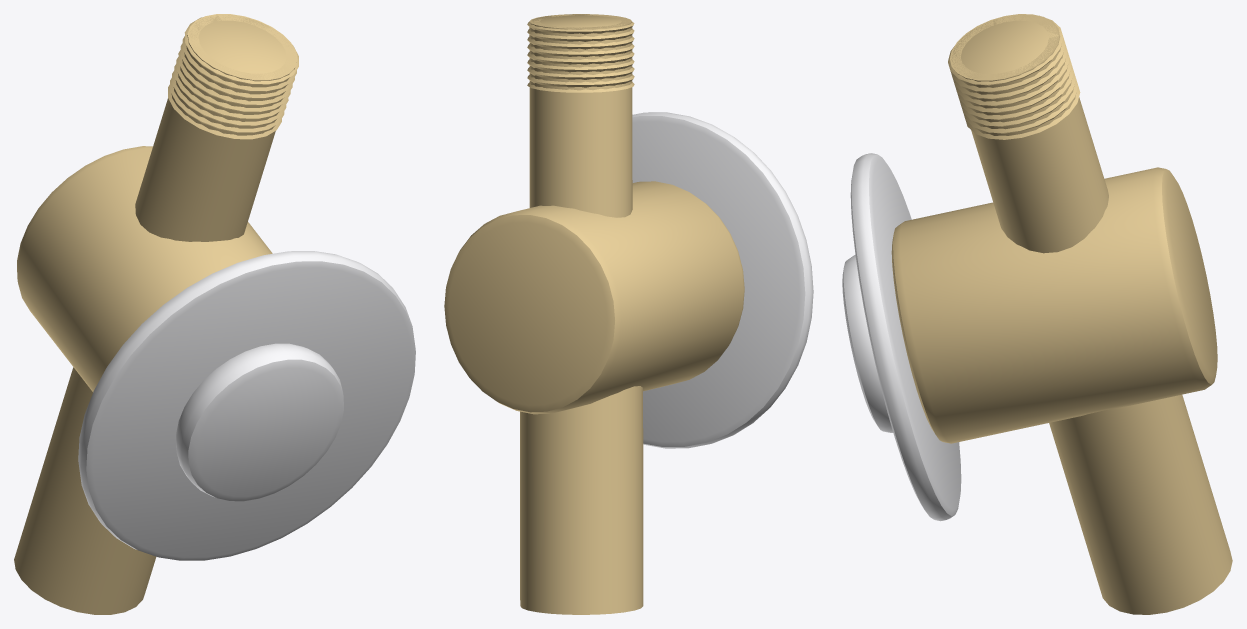
The model's file is HID-MET-004_anim.glb.
3 views of the same model, side by side, from view 1: azimuth 30°, elevation 25°; view 2: azimuth 150°, elevation 25°; view 3: azimuth 270°, elevation 25° (orthographic). The views are drawn at different scales.
Parts seen in each view (by area): view 1: HID-MET-004_anim0; view 2: HID-MET-004_anim0; view 3: HID-MET-004_anim0.
Boxes of the visible parts, box(x1,y1,x2,y2) form: HID-MET-004_anim0: box(14, 14, 415, 614); HID-MET-004_anim0: box(444, 14, 813, 614); HID-MET-004_anim0: box(842, 14, 1232, 614).
Bounding box in the file's own units: 0.132 × 0.233 × 0.1374.
